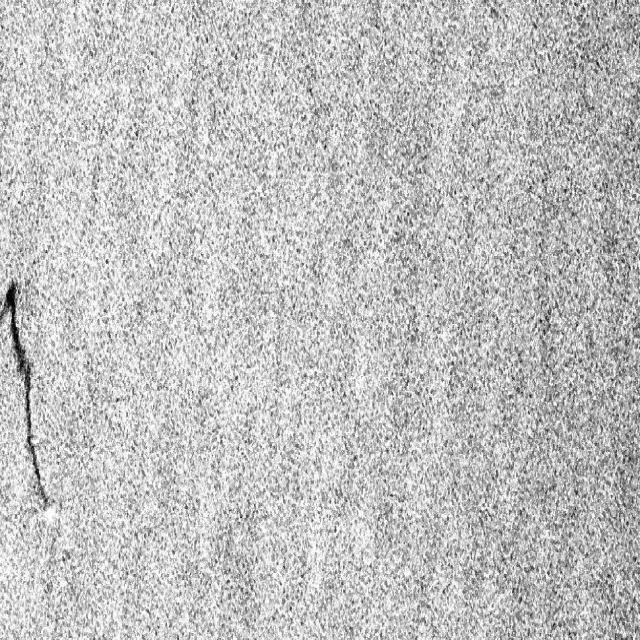oil-spill: (0, 275, 51, 506)
ship: (40, 503, 60, 531)
